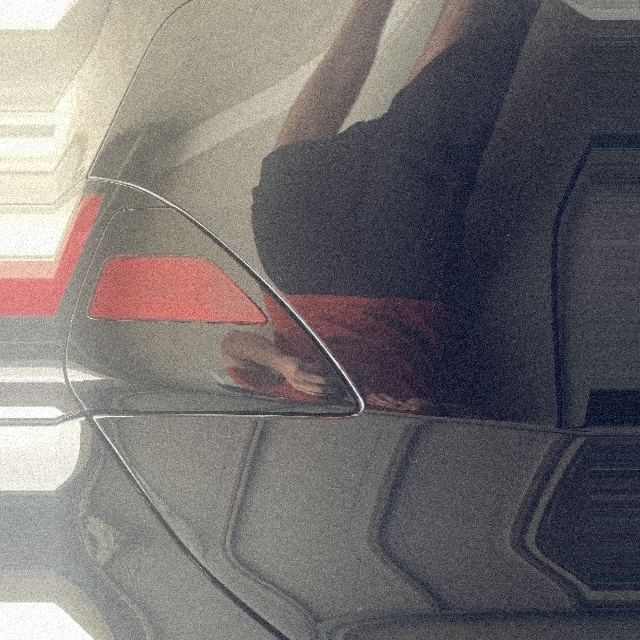reflector: (85, 254, 267, 324)
